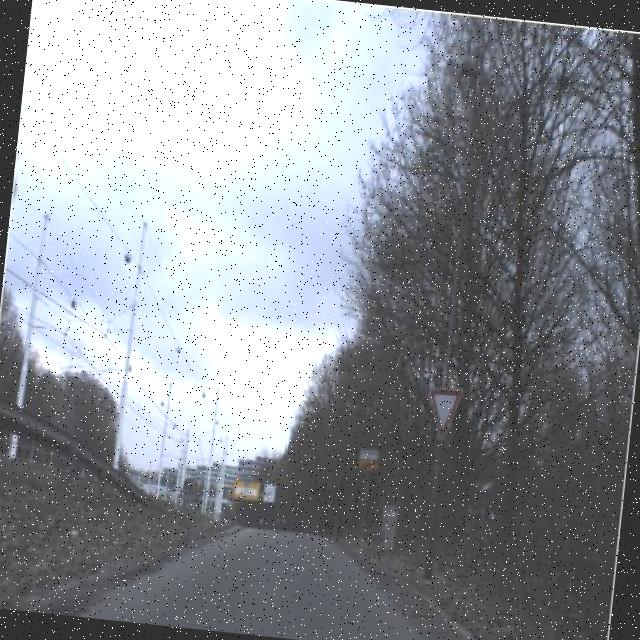Ustap pierwszenstwa: (421, 382, 464, 446)
